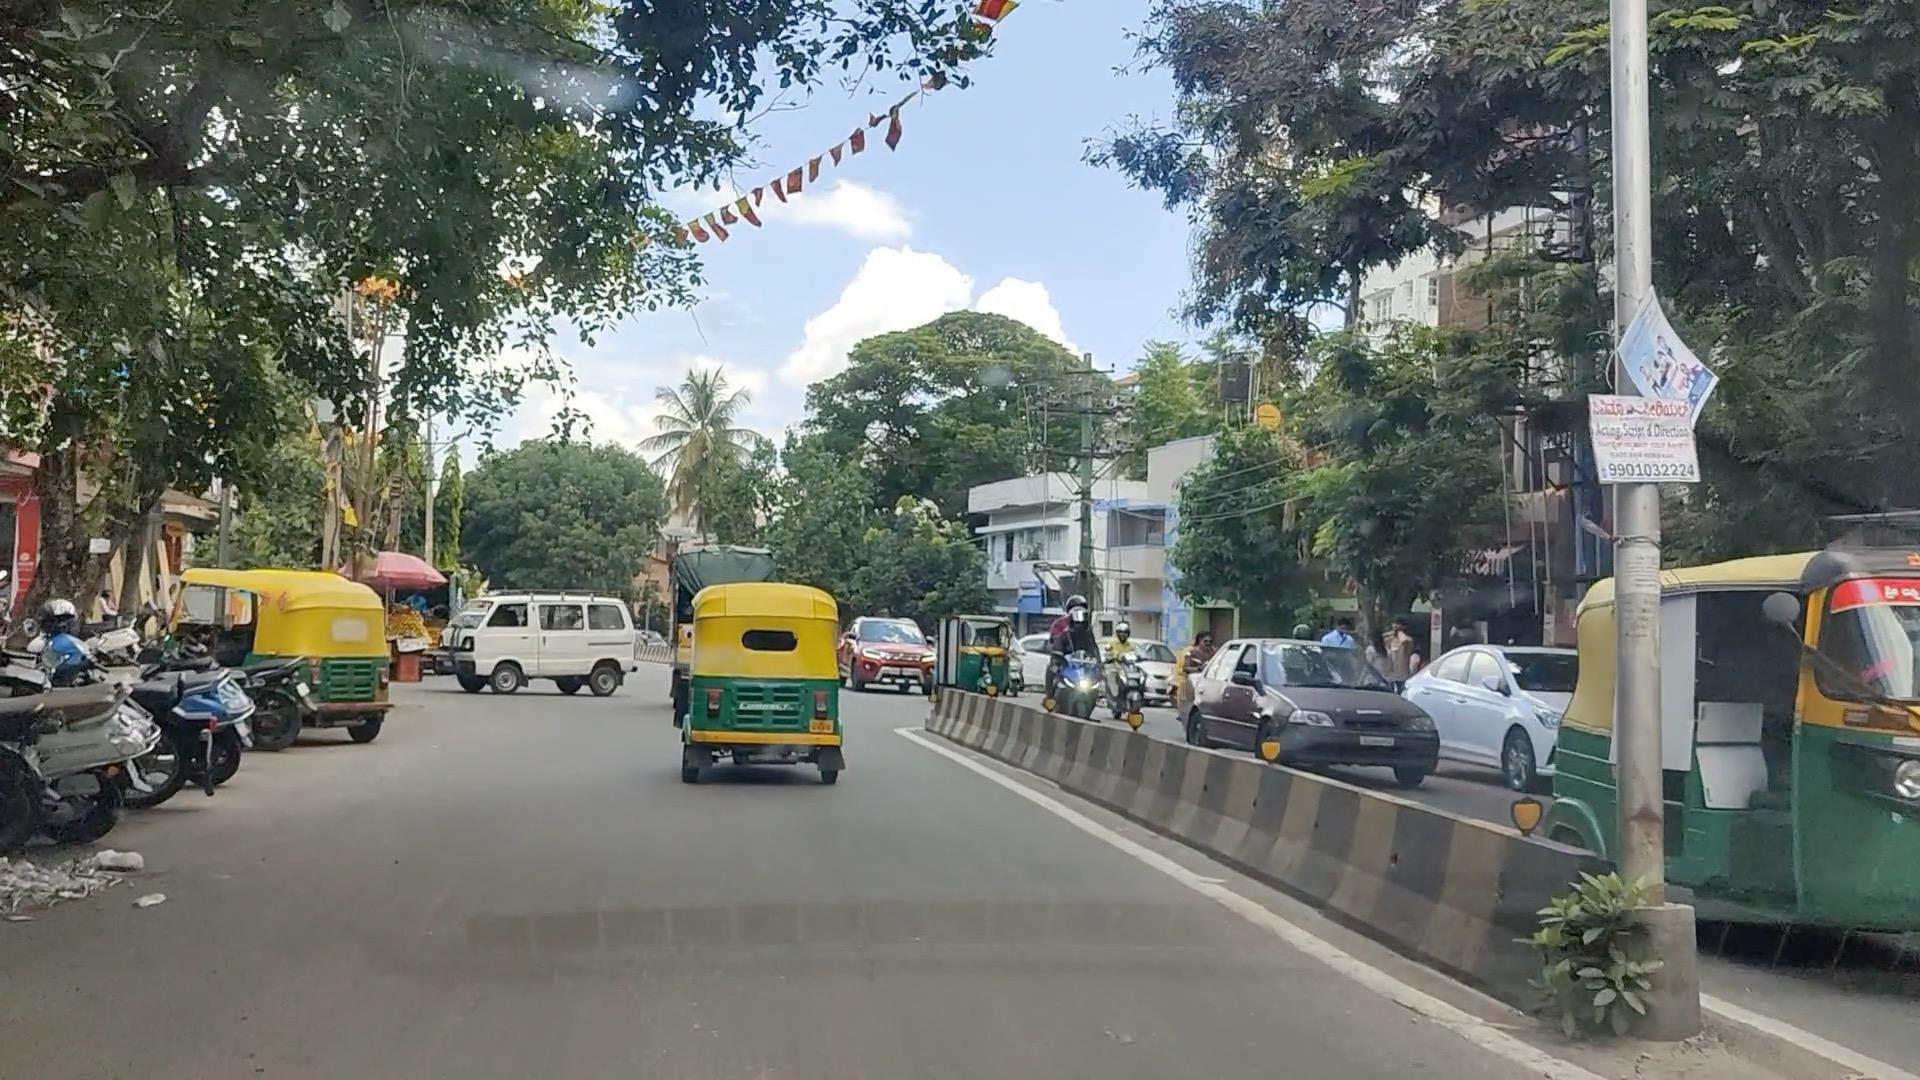LMV: (683, 593, 853, 782), (208, 554, 393, 720), (460, 587, 616, 690)
